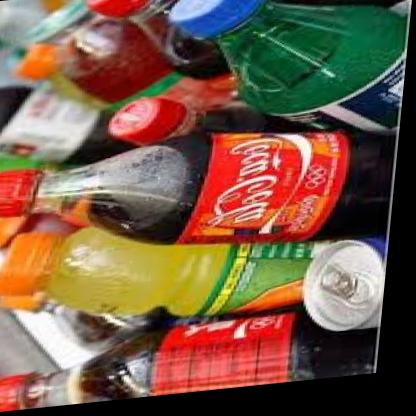Plastic: (0, 122, 389, 270), (0, 320, 389, 412), (150, 0, 408, 136)
